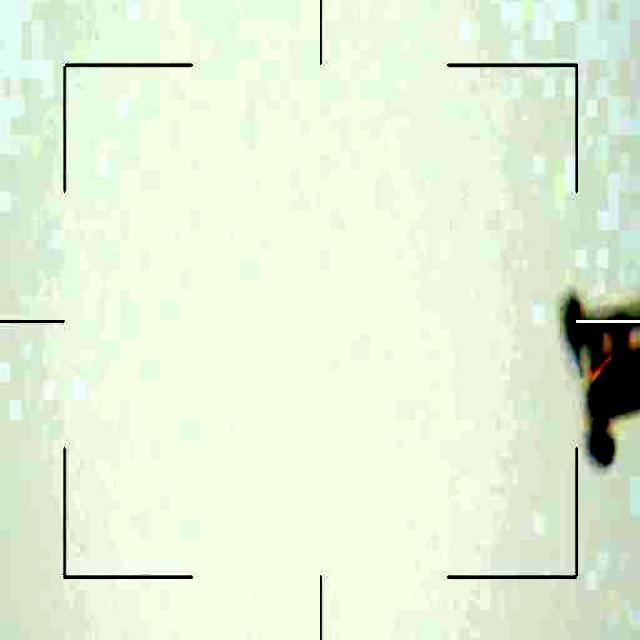bird: (555, 278, 640, 464)
